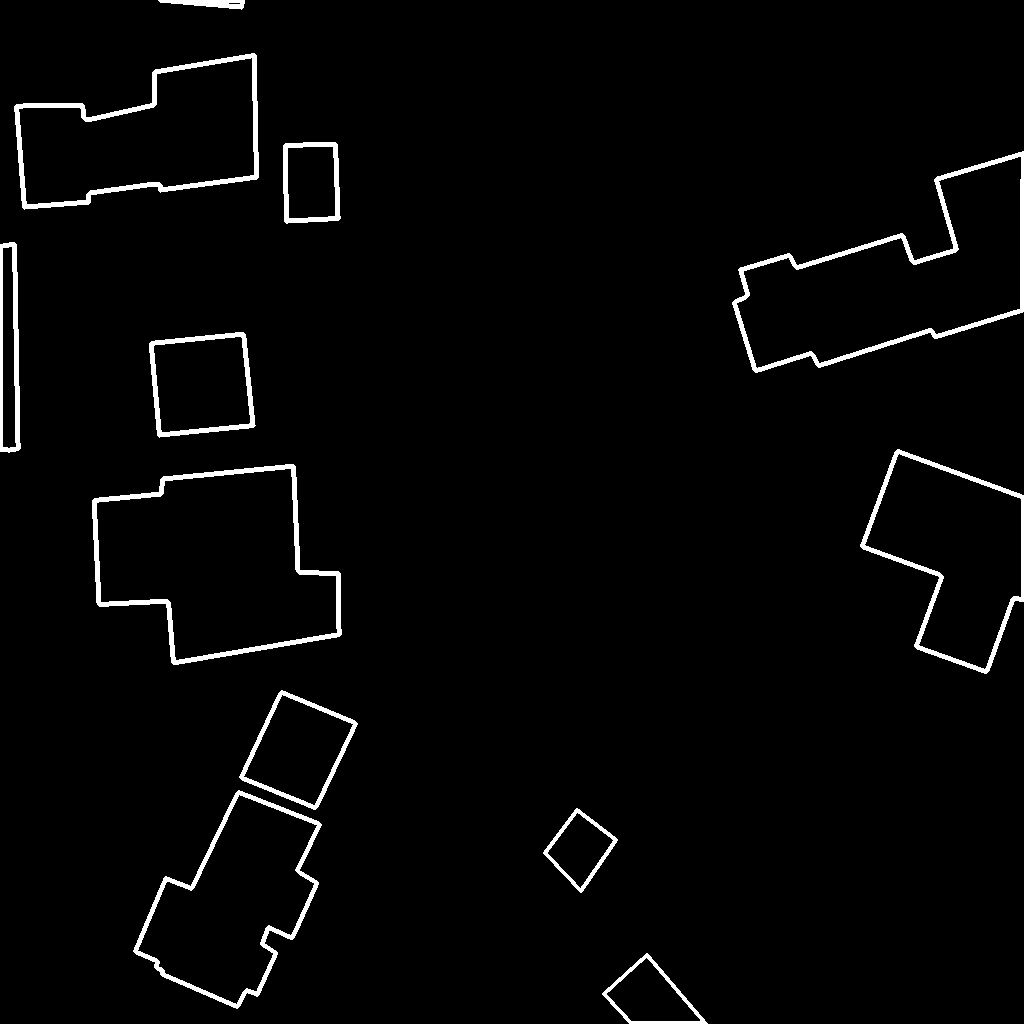building: (734, 153, 1024, 372), (94, 466, 340, 664), (135, 792, 321, 1008), (16, 55, 258, 208), (862, 451, 1024, 673), (241, 692, 357, 809), (151, 334, 254, 436), (604, 955, 707, 1024), (545, 810, 617, 892), (285, 144, 339, 222), (0, 244, 19, 451), (154, 0, 244, 8)
